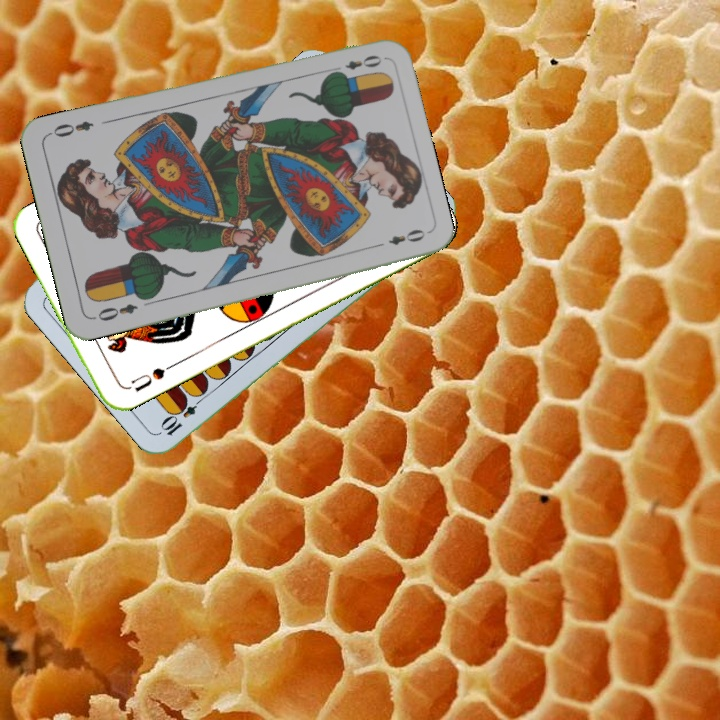E10: (157, 391, 208, 439)
EO: (327, 51, 385, 78), (93, 299, 140, 324)
SU: (121, 360, 177, 395)
